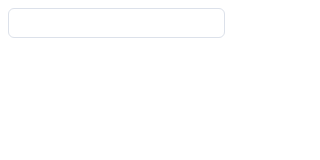
it: AmountField › оставляет нечисловой ввод на blur и при повторном рендере с тем же null
Later steps or results of the test are not shown.
Type "1e3" into the field named "Сумма" at (116, 23), box [17, 8, 216, 38]
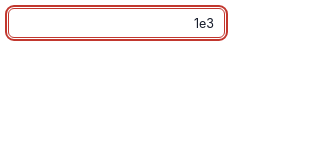
Now the field named "Сумма" is marked as invalid, box [17, 8, 216, 38]
